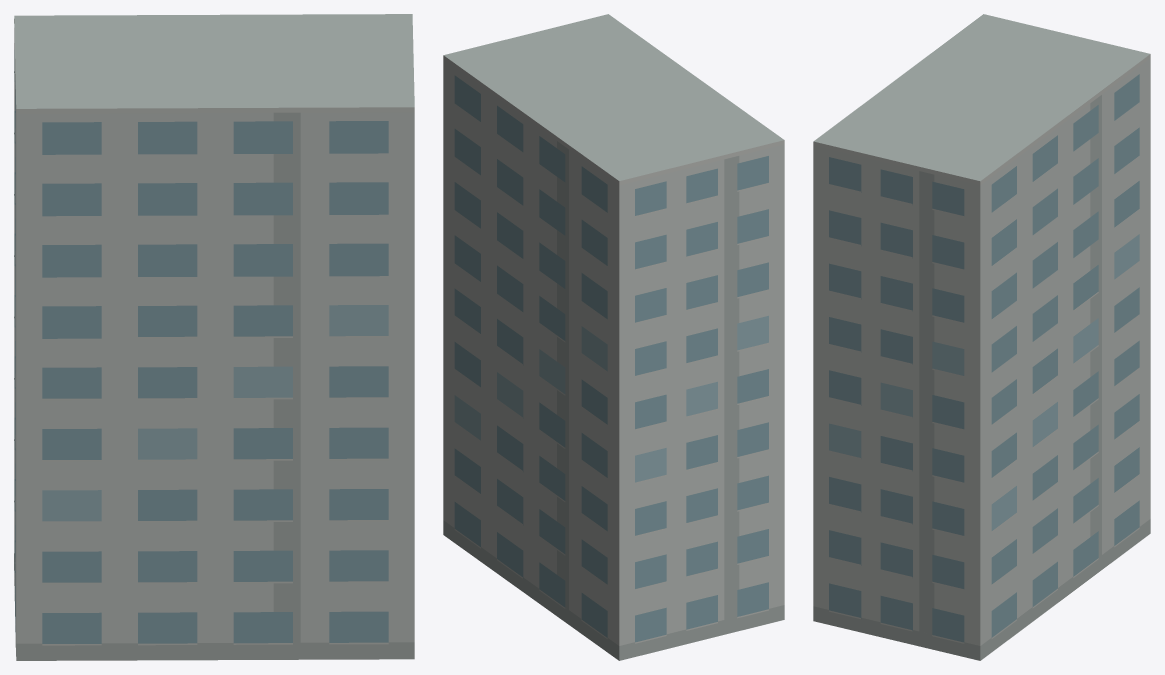
Rendered from residential-2f57f1d7-9a02-43fd-9cb4-c7a8802cce2b.glb.
3 renders of one model, left to right at view 1: azimuth 30°, elevation 25°; view 2: azimuth 150°, elevation 25°; view 3: azimuth 270°, elevation 25°, orthographic. The views are drawn at different scales.
Parts seen in each view (by area): view 1: residential-2f57f1d7-9a02-43fd-9cb4-c7a8802cce2b.tmp; view 2: residential-2f57f1d7-9a02-43fd-9cb4-c7a8802cce2b.tmp; view 3: residential-2f57f1d7-9a02-43fd-9cb4-c7a8802cce2b.tmp.
Boxes of the visible parts, bbox=[...] form: residential-2f57f1d7-9a02-43fd-9cb4-c7a8802cce2b.tmp: bbox=[14, 14, 414, 660]; residential-2f57f1d7-9a02-43fd-9cb4-c7a8802cce2b.tmp: bbox=[443, 14, 784, 660]; residential-2f57f1d7-9a02-43fd-9cb4-c7a8802cce2b.tmp: bbox=[813, 14, 1150, 660].
Bounding box in the file's own units: 20.2 × 27 × 17.21.
